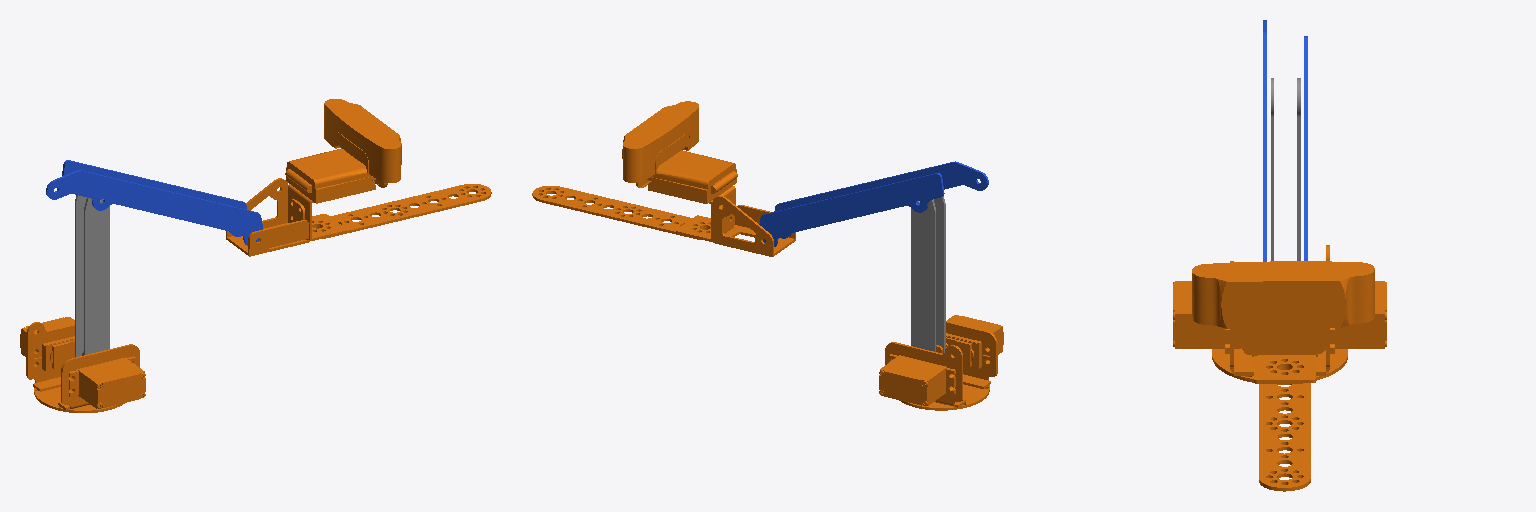
URDF robot description (new_arm):
<?xml version="1.0"?>
<robot name="new_arm">

  <material name="grey">
    <color rgba="0.6 0.6 0.6 1.0"/>
  </material>
  <material name="orange">
    <color rgba="0.9 0.5 0.1 1.0"/>
  </material>
  <material name="blue">
    <color rgba="0.2 0.4 0.9 1.0"/>
  </material>

  <link name="arm_base_link">
    <visual>
      <origin xyz="0 0 0" rpy="0 0 0"/>
      <geometry>
        <mesh filename="package://new_arm_description/meshes/stl/arm_base.stl" scale="0.001 0.001 0.001"/>
      </geometry>
      <material name="grey"/>
    </visual>
    <collision>
      <origin xyz="0 0 0" rpy="0 0 0"/>
      <geometry>
        <mesh filename="package://new_arm_description/meshes/stl/arm_base.stl" scale="0.001 0.001 0.001"/>
      </geometry>
    </collision>
  </link>

  <joint name="after_base_full_joint" type="revolute">
    <parent link="arm_base_link"/>
    <child link="after_base_full_link"/>
    <origin xyz="0.00043239 -0.00184063 0.08396122" rpy="0 0 0"/>
    <axis xyz="0 0 1"/>
    <limit lower="-3.14" upper="3.14" effort="10.0" velocity="1.0"/>
  </joint>

  <link name="after_base_full_link">
    <visual>
      <origin xyz="0 0 0" rpy="0 0 0"/>
      <geometry>
        <mesh filename="package://new_arm_description/meshes/stl/after_base_full.stl" scale="0.001 0.001 0.001"/>
      </geometry>
      <material name="orange"/>
    </visual>
    <collision>
      <origin xyz="0 0 0" rpy="0 0 0"/>
      <geometry>
        <mesh filename="package://new_arm_description/meshes/stl/after_base_full.stl" scale="0.001 0.001 0.001"/>
      </geometry>
    </collision>
    <inertial>
      <origin xyz="0 0 0.02" rpy="0 0 0"/>
      <mass value="0.3"/>
      <inertia ixx="0.0005" ixy="0" ixz="0" iyy="0.0005" iyz="0" izz="0.0005"/>
    </inertial>
  </link>

  <joint name="link1_joint" type="revolute">
    <parent link="after_base_full_link"/>
    <child link="link1_link"/>
    <origin xyz="0.00814224 -0.00043239 0.00161718" rpy="0 0 0"/>
    <axis xyz="0 1 0"/>
    <limit lower="-3.14" upper="3.14" effort="10.0" velocity="1.0"/>
  </joint>

  <link name="link1_link">
    <visual>
      <origin xyz="0 0 0" rpy="0 0 1.57080"/>
      <geometry>
        <mesh filename="package://new_arm_description/meshes/stl/link1.stl" scale="0.001 0.001 0.001"/>
      </geometry>
      <material name="grey"/>
    </visual>
    <collision>
      <origin xyz="0 0 0" rpy="0 0 1.57080"/>
      <geometry>
        <mesh filename="package://new_arm_description/meshes/stl/link1.stl" scale="0.001 0.001 0.001"/>
      </geometry>
    </collision>
    <inertial>
      <origin xyz="-0.00084107 0.00290 0.06494700" rpy="0 0 0"/>
      <mass value="0.1"/>
      <inertia ixx="0.000135" ixy="0" ixz="0" iyy="0.000134" iyz="0" izz="0.0000054"/>
    </inertial>
  </link>

  <joint name="link2_joint" type="revolute">
    <parent link="link1_link"/>
    <child link="link2_link"/>
    <origin xyz="0.001 -0.00856 0.12839612" rpy="0 0 0"/>
    <axis xyz="0 1 0"/>
    <limit lower="-3.14" upper="3.14" effort="10.0" velocity="1.0"/>
  </joint>

  <link name="link2_link">
    <visual>
      <origin xyz="0 0 0" rpy="0 0 0"/>
      <geometry>
        <mesh filename="package://new_arm_description/meshes/stl/link2.stl" scale="0.001 0.001 0.001"/>
      </geometry>
      <material name="blue"/>
    </visual>
    <collision>
      <origin xyz="0 0 0" rpy="0 0 0"/>
      <geometry>
        <mesh filename="package://new_arm_description/meshes/stl/link2.stl" scale="0.001 0.001 0.001"/>
      </geometry>
    </collision>
    <inertial>
      <origin xyz="0.05192619 0.01092440 -0.01511619" rpy="0 0 0"/>
      <mass value="0.1"/>
      <inertia ixx="0.0000466" ixy="0" ixz="0.0000759" iyy="0.00022" iyz="0" izz="0.000188"/>
    </inertial>
  </link>

  <joint name="end_effector_joint" type="revolute">
    <parent link="link2_link"/>
    <child link="end_effector_link"/>
    <origin xyz="0.12531939 0.01099 -0.05778452" rpy="0 0 0"/>
    <axis xyz="0 1 0"/>
    <limit lower="-3.14" upper="3.14" effort="5.0" velocity="1.0"/>
  </joint>

  <link name="end_effector_link">
    <visual>
      <origin xyz="0 0 0" rpy="0 1.57080 0"/>
      <geometry>
        <mesh filename="package://new_arm_description/meshes/stl/end_effector.stl" scale="0.001 0.001 0.001"/>
      </geometry>
      <material name="orange"/>
    </visual>
    <collision>
      <origin xyz="0 0 0" rpy="0 1.57080 0"/>
      <geometry>
        <mesh filename="package://new_arm_description/meshes/stl/end_effector.stl" scale="0.001 0.001 0.001"/>
      </geometry>
    </collision>
    <inertial>
      <origin xyz="0 0 0" rpy="0 0 0"/>
      <mass value="0.05"/>
      <inertia ixx="0.0001" ixy="0" ixz="0" iyy="0.0001" iyz="0" izz="0.0001"/>
    </inertial>
  </link>

</robot>

--- Facts derived from the render (not from the file) ---
3 views of the same robot in one strip: view 1: azimuth 30°, elevation 25°; view 2: azimuth 150°, elevation 25°; view 3: azimuth 270°, elevation 25° (orthographic).
Model new_arm with 5 links and 4 joints (4 revolute), rooted at arm_base_link, posed every joint at zero.
Visible links, largest first — view 1: end_effector_link, after_base_full_link, link2_link, link1_link; view 2: end_effector_link, after_base_full_link, link2_link, link1_link; view 3: end_effector_link, after_base_full_link, link2_link, link1_link.
Boxes of the visible links, bbox=[...] form: end_effector_link: bbox=[226, 99, 491, 256]; after_base_full_link: bbox=[20, 317, 145, 412]; link2_link: bbox=[46, 160, 262, 245]; link1_link: bbox=[75, 195, 109, 357]; end_effector_link: bbox=[532, 101, 795, 256]; after_base_full_link: bbox=[879, 315, 1003, 410]; link2_link: bbox=[759, 161, 988, 246]; link1_link: bbox=[911, 196, 945, 353]; end_effector_link: bbox=[1192, 261, 1374, 491]; after_base_full_link: bbox=[1173, 245, 1386, 384]; link2_link: bbox=[1263, 20, 1307, 261]; link1_link: bbox=[1271, 78, 1300, 260].
Size in the robot's own frame: 0.3712 by 0.1101 by 0.18 metres.
Meshes: 5 distinct files referenced, 4 mesh visuals loaded (4 binary STL); not drawn: 1 (reference not matched to a file when rendering).
